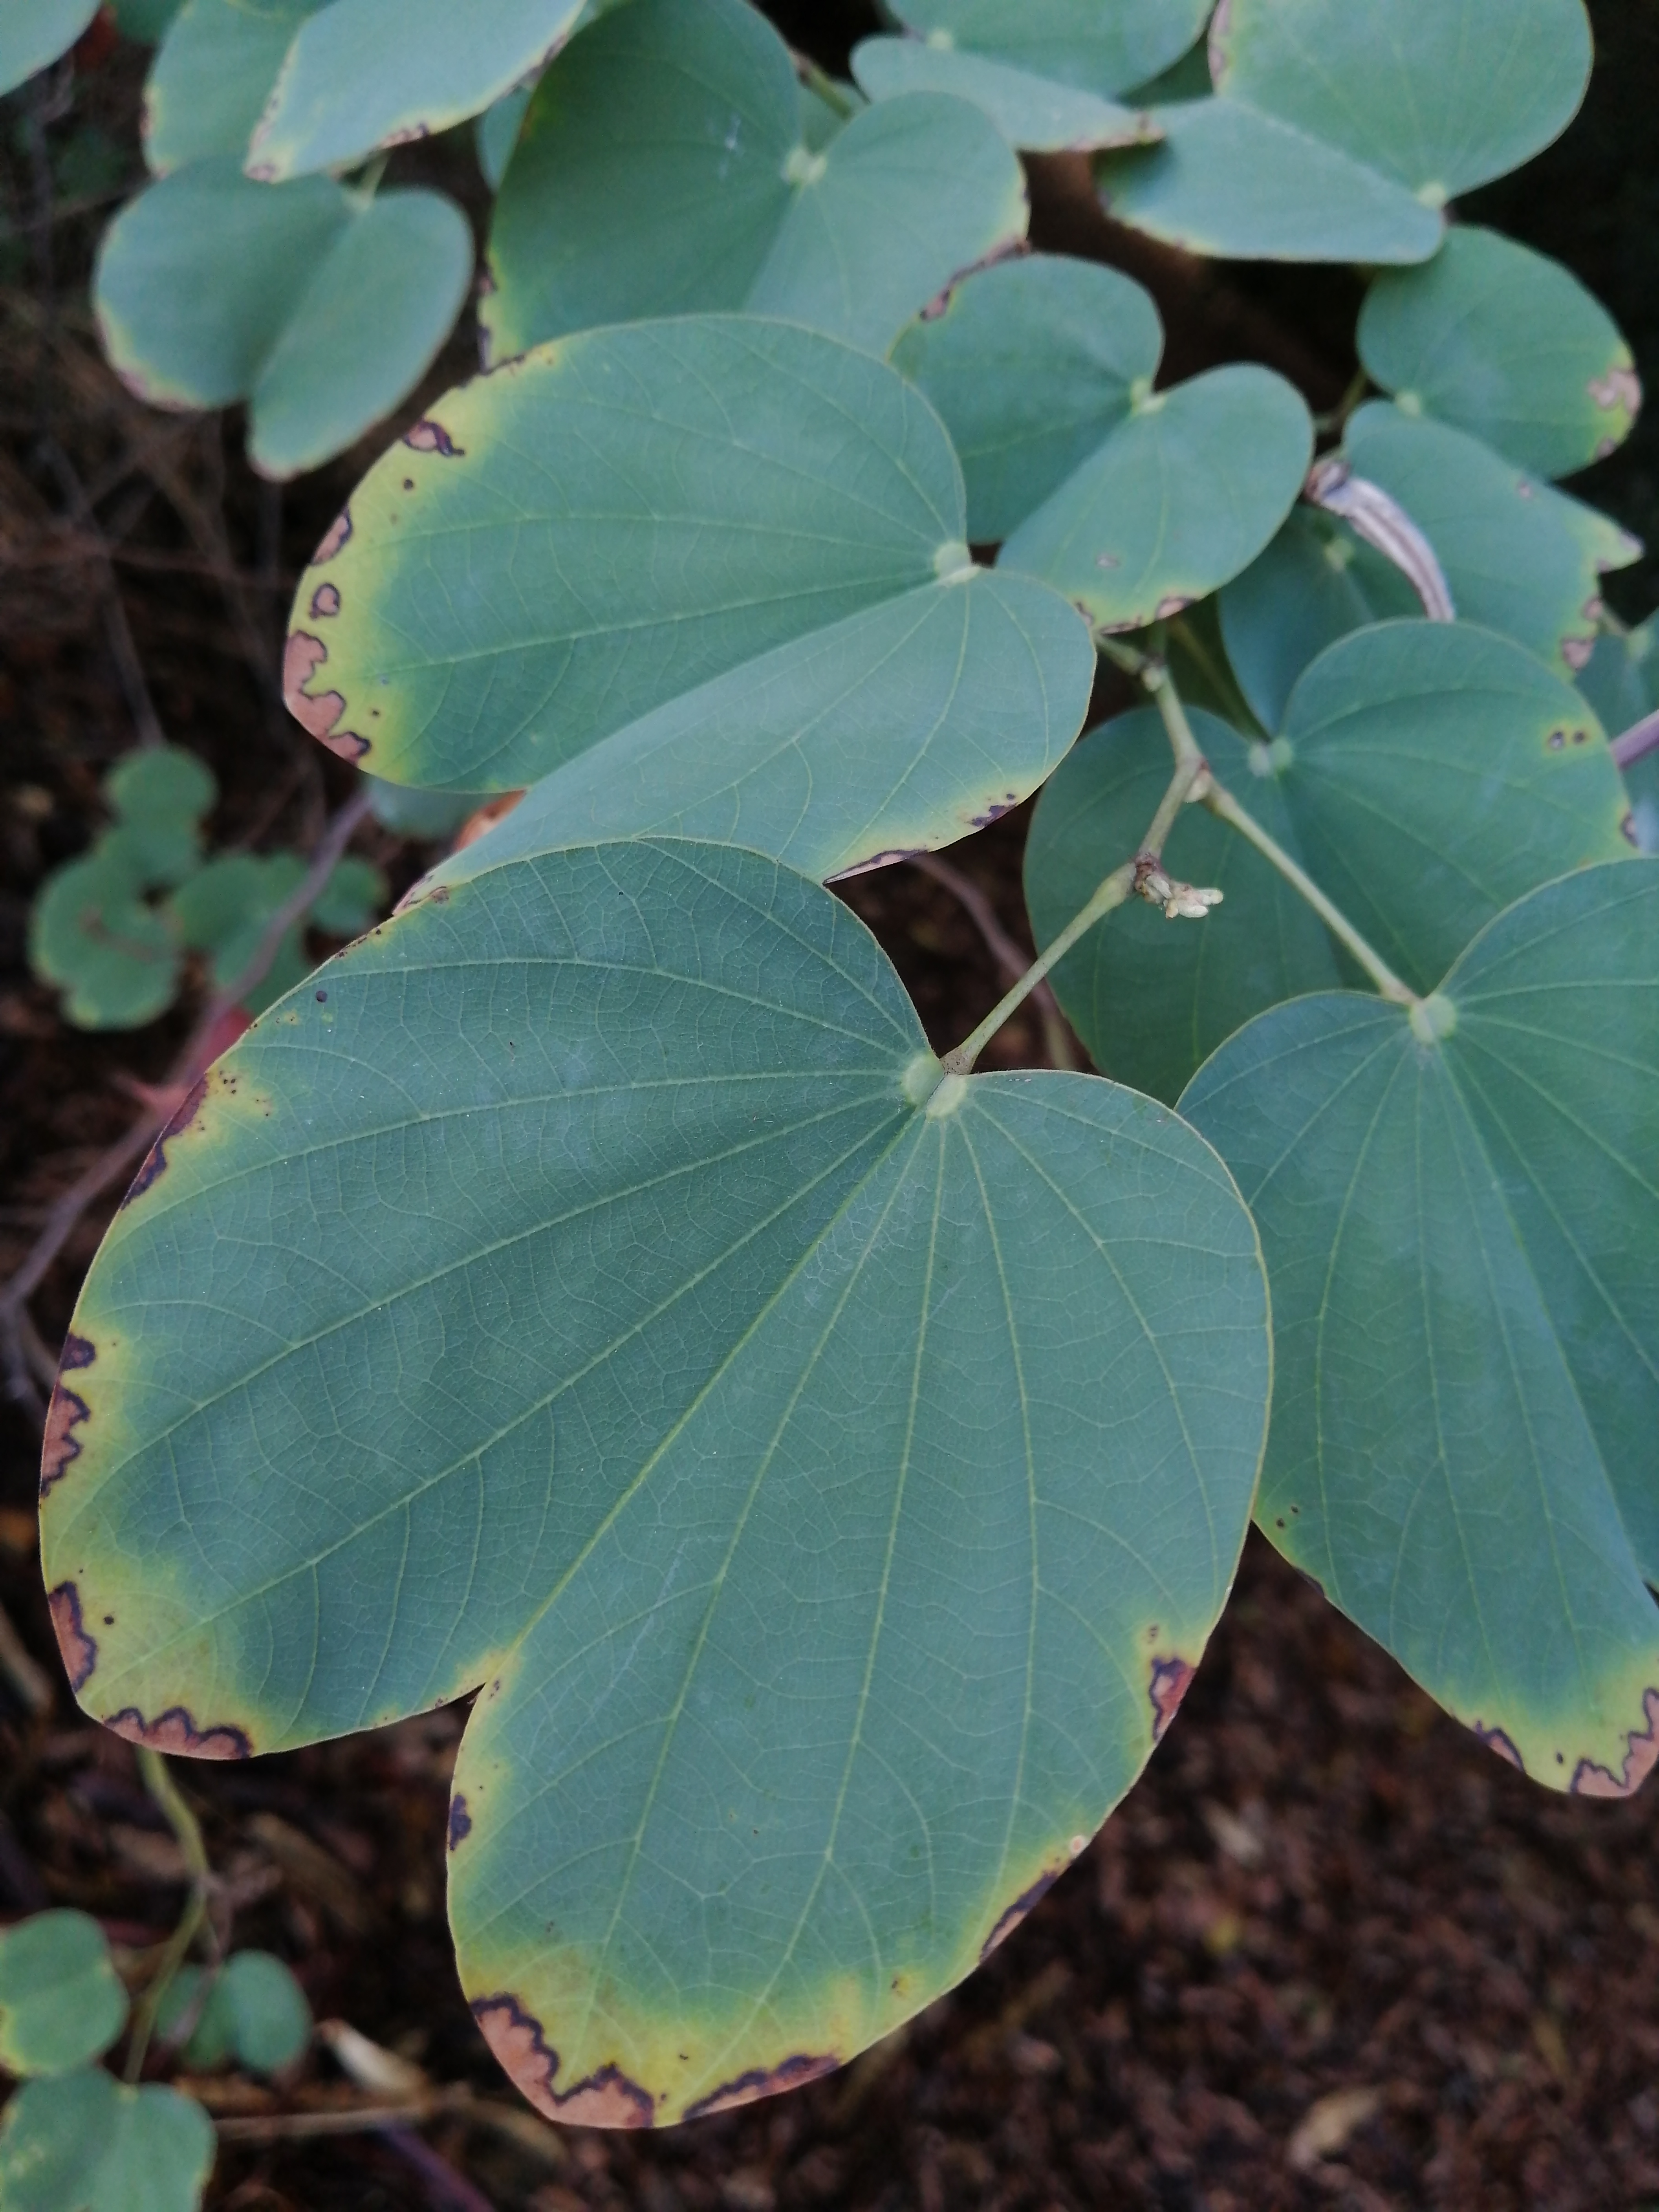nothealthy: (33, 813, 1351, 2156), (267, 314, 1138, 920), (1176, 913, 1659, 1822), (899, 253, 1387, 664)
